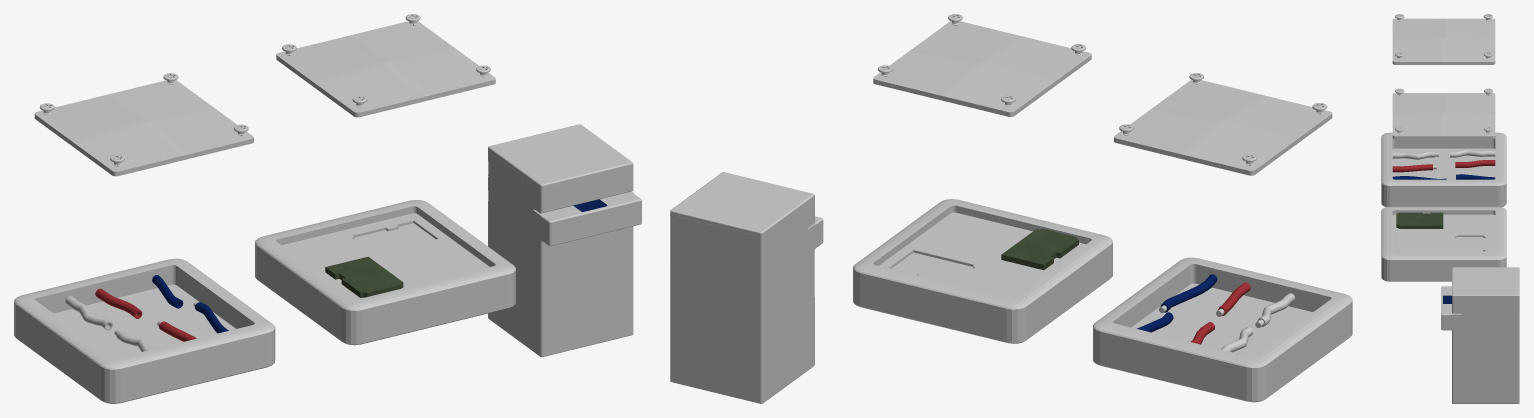
Rendered from ucoda1.fbx.
The picture shows the model from 3 angles, left to right: view 1: azimuth 30°, elevation 25°; view 2: azimuth 150°, elevation 25°; view 3: azimuth 270°, elevation 25°; orthographic projection. The views are drawn at different scales.
Visible parts, largest first — view 1: Cube.002, Cube.001, Cube.005, Cube.004, Cube, Cube.007, Cube.008, Cube.003; view 2: Cube.005, Cube.002, Cube.001, Cube.004, Cube, Cube.007, Cube.008, Cube.003, Circle.002; view 3: Cube.002, Cube.005, Cube.001, Cube.004, Cube, Cube.008, Cube.007, Cube.003, Circle.004, Circle.003, Circle.005, Circle.006 (+2 smaller).
Part boxes in pixels (x1,y1,x2,y2): Cube.002: [255, 200, 515, 345]; Cube.001: [14, 258, 275, 403]; Cube.005: [488, 151, 641, 357]; Cube.004: [276, 21, 495, 117]; Cube: [34, 80, 253, 176]; Cube.007: [488, 135, 587, 189]; Cube.008: [535, 124, 633, 177]; Cube.003: [325, 256, 403, 297]; Cube.005: [670, 198, 823, 403]; Cube.002: [853, 199, 1112, 343]; Cube.001: [1093, 257, 1352, 402]; Cube.004: [873, 21, 1091, 116]; Cube: [1114, 79, 1332, 175]; Cube.007: [715, 183, 814, 236]; Cube.008: [670, 172, 767, 225]; Cube.003: [1001, 228, 1078, 270]; Circle.002: [1160, 274, 1217, 312]; Cube.002: [1381, 206, 1506, 281]; Cube.005: [1441, 286, 1519, 403]; Cube.001: [1381, 132, 1506, 206]; Cube.004: [1392, 93, 1495, 139]; Cube: [1392, 18, 1495, 64]; Cube.008: [1452, 281, 1519, 298]; Cube.007: [1452, 267, 1519, 281]; Cube.003: [1396, 212, 1443, 228]; Circle.004: [1450, 149, 1495, 157]; Circle.003: [1392, 151, 1434, 159]; Circle.005: [1392, 164, 1432, 172]; Circle.006: [1455, 160, 1495, 167].
Size of the model in its own units: 1691 by 956 by 552.
